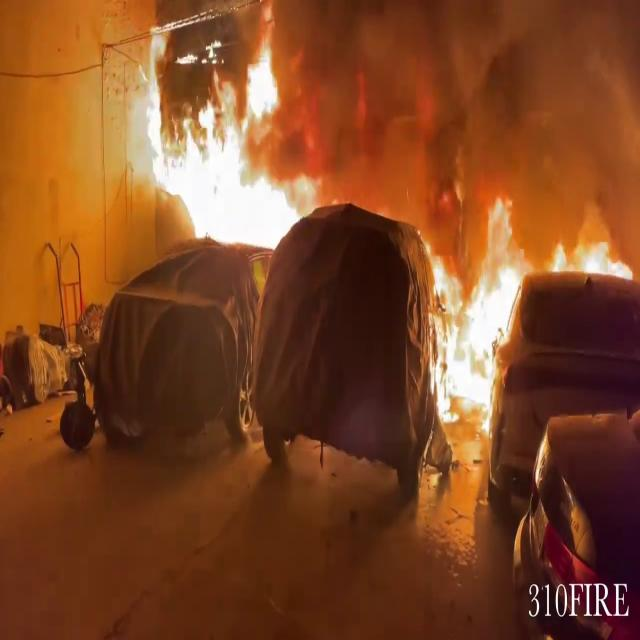Fire: (142, 20, 306, 264), (423, 203, 527, 439), (544, 190, 638, 284)
Smoke: (314, 0, 640, 228)
